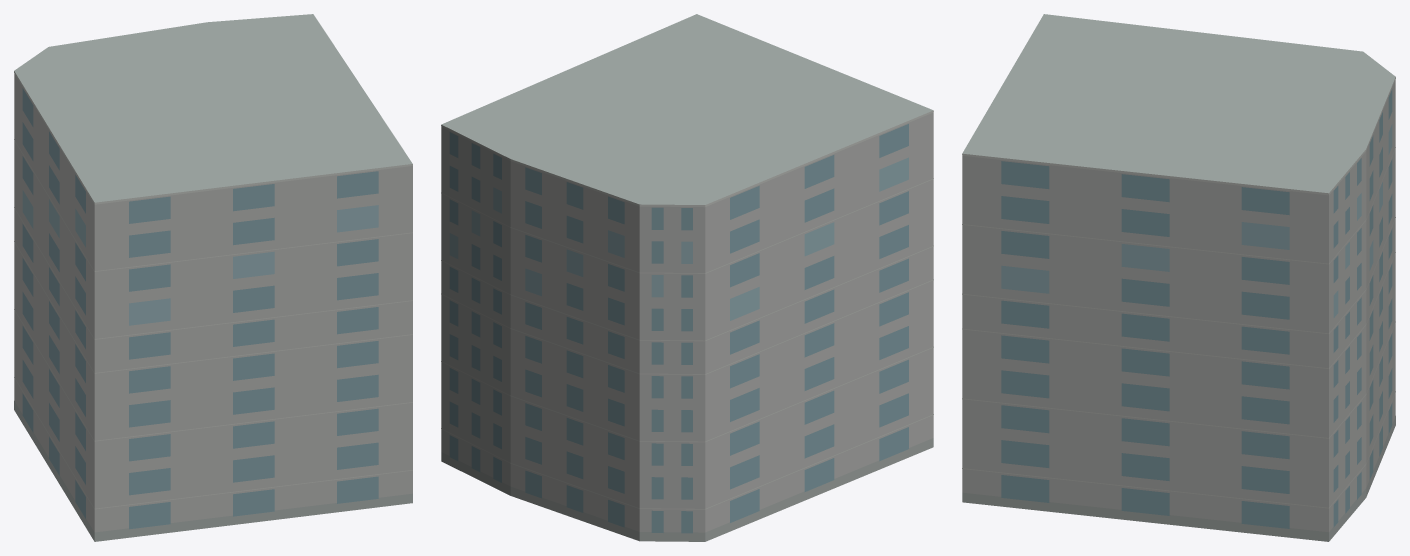
File: survey-upis-32746143.glb
3 views of the same model, side by side, from view 1: azimuth 30°, elevation 25°; view 2: azimuth 150°, elevation 25°; view 3: azimuth 270°, elevation 25° (orthographic). The views are drawn at different scales.
Parts seen in each view (by area): view 1: survey-upis-32746143.tmp; view 2: survey-upis-32746143.tmp; view 3: survey-upis-32746143.tmp.
Boxes of the visible parts, left/top/right/bottom form: survey-upis-32746143.tmp: left=14, top=14, right=412, bottom=541; survey-upis-32746143.tmp: left=441, top=14, right=933, bottom=541; survey-upis-32746143.tmp: left=962, top=14, right=1395, bottom=541.
Size of the model in its own units: 44.15 by 40.02 by 45.13.
